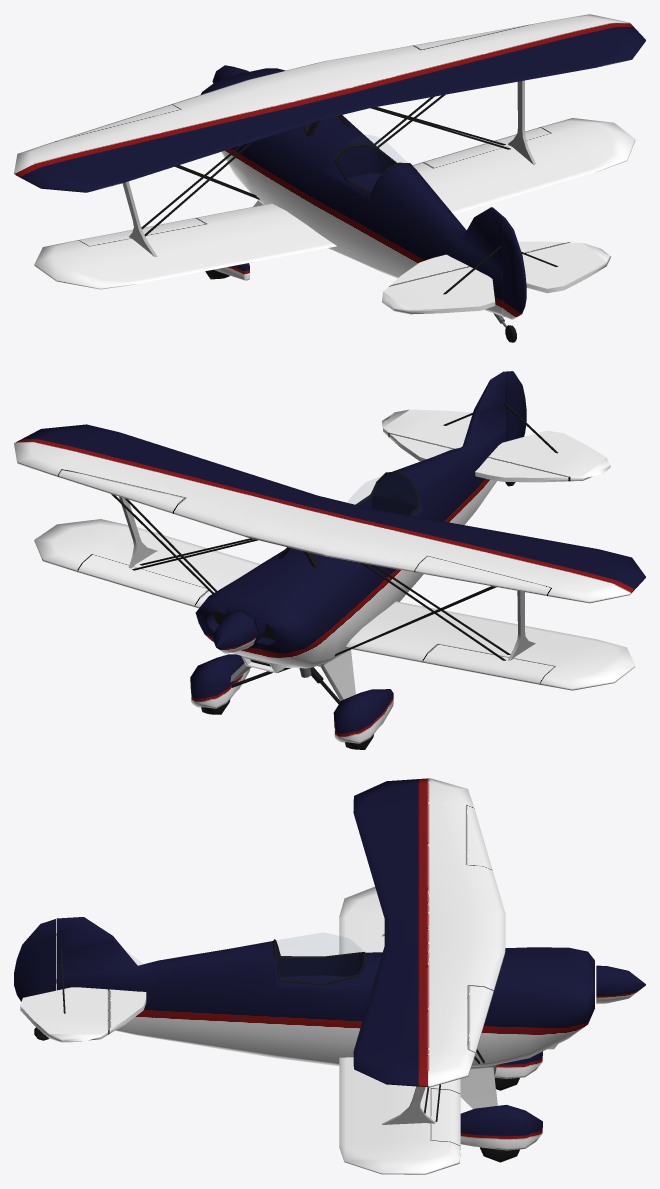
File: Pitts.obj
The picture shows the model from 3 angles, top to bottom: view 1: azimuth 30°, elevation 25°; view 2: azimuth 150°, elevation 25°; view 3: azimuth 270°, elevation 25°; orthographic projection. The views are drawn at different scales.
Parts seen in each view (by area): view 1: Layer_0; view 2: Layer_0; view 3: Layer_0.
Boxes of the visible parts, x1,y1,x2,y2 form: Layer_0: (14,14,645,342); Layer_0: (14,371,645,749); Layer_0: (14,778,645,1174).
Size of the model in its own units: 0.2755 by 0.0868 by 0.2394.
